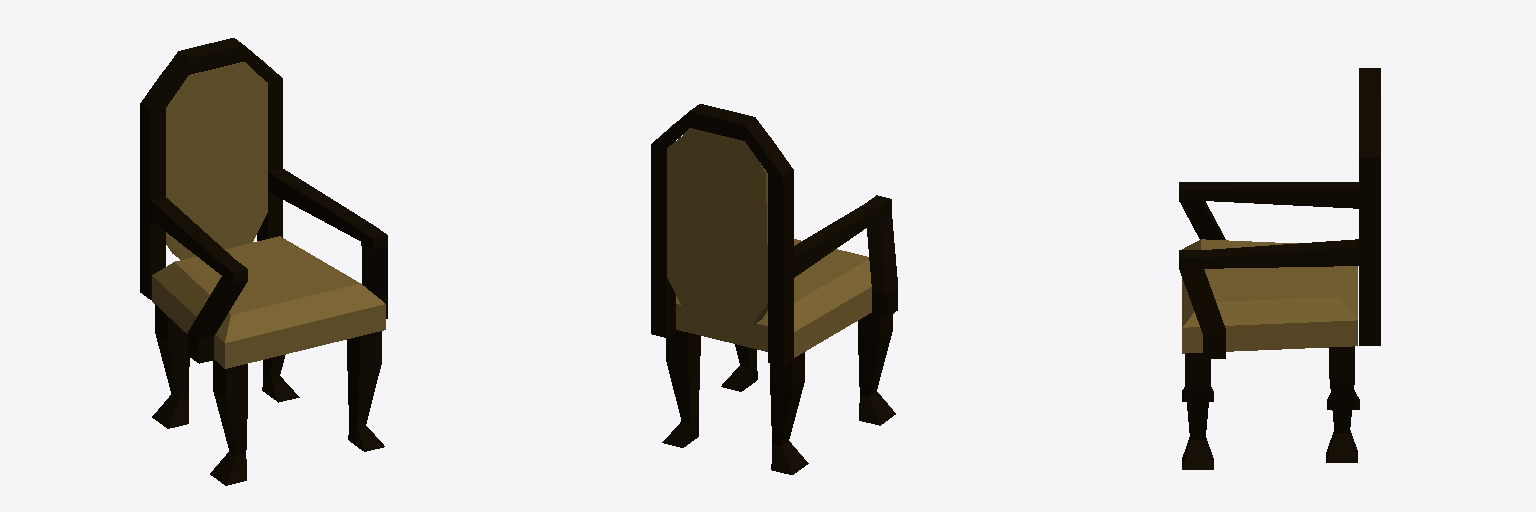
Rendered from ChairTexture.obj.
The picture shows the model from 3 angles: view 1: azimuth 30°, elevation 25°; view 2: azimuth 150°, elevation 25°; view 3: azimuth 270°, elevation 25°; orthographic projection.
Visible parts, largest first — view 1: Cushion, Backrest, ArmrestL, ArmrestR, leg, leg1, leg3, Toprest, leg2; view 2: Backrest, ArmrestL, Cushion, ArmrestR, leg3, leg2, leg, Toprest, leg1; view 3: Cushion, ArmrestR, ArmrestL, leg2, leg1, Toprest.
Part boxes in pixels (x1,y1,x2,y2): Cushion: (152, 236, 385, 368); Backrest: (166, 62, 267, 259); ArmrestL: (140, 71, 247, 363); ArmrestR: (245, 58, 387, 318); leg: (210, 360, 247, 485); leg1: (347, 331, 384, 451); leg3: (152, 304, 189, 428); Toprest: (164, 38, 258, 78); leg2: (262, 354, 299, 402); Backrest: (667, 128, 767, 325); ArmrestL: (745, 137, 897, 365); Cushion: (676, 239, 871, 357); ArmrestR: (651, 124, 688, 337); leg3: (770, 352, 808, 474); leg2: (662, 330, 700, 447); leg: (858, 313, 895, 425); Toprest: (675, 104, 769, 144); leg1: (721, 344, 757, 391); Cushion: (1182, 239, 1357, 353); ArmrestR: (1179, 118, 1380, 358); ArmrestL: (1179, 182, 1358, 239); leg2: (1326, 346, 1357, 462); leg1: (1182, 353, 1213, 469); Toprest: (1359, 68, 1380, 117).
Size of the model in its own units: 52.64 by 93.81 by 49.12.